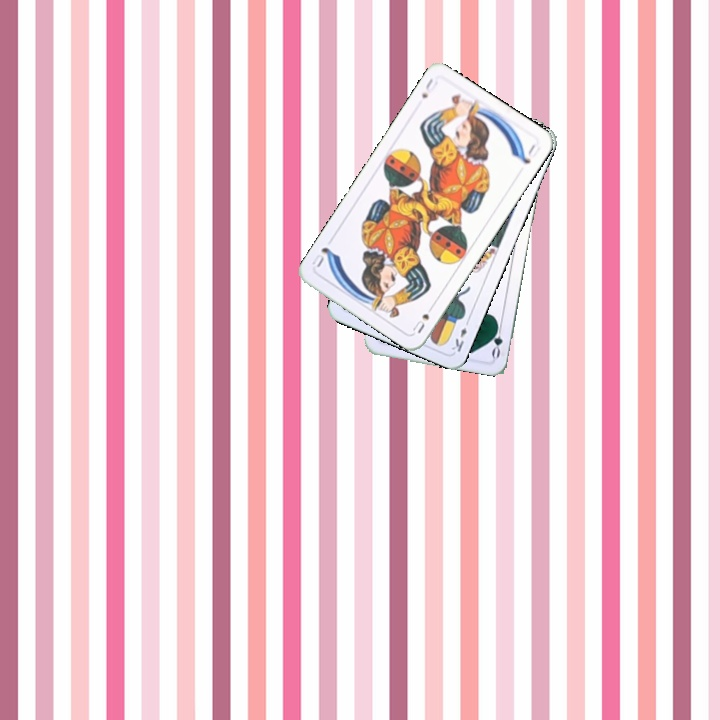EK: (447, 315, 472, 354)
GO: (487, 319, 505, 360)
SU: (408, 300, 437, 336), (417, 74, 441, 101)
